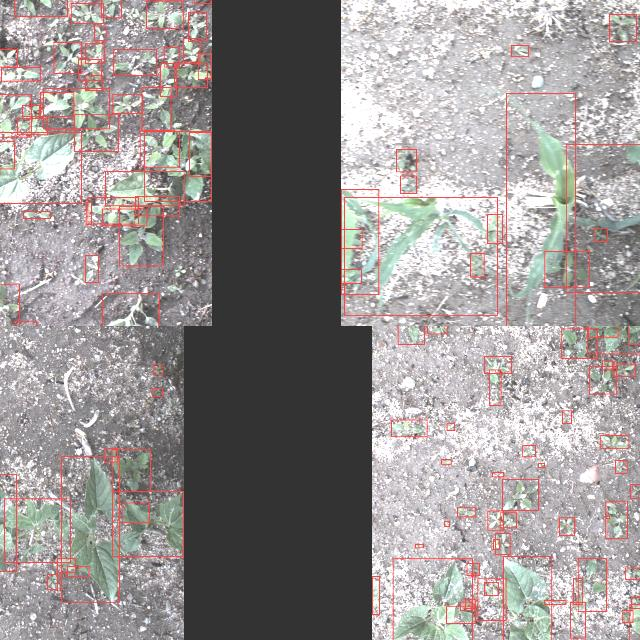crop: (344, 197, 496, 315), (506, 93, 576, 326), (565, 144, 640, 292), (61, 456, 119, 602), (392, 557, 472, 640), (0, 131, 80, 202), (112, 490, 184, 556), (4, 498, 70, 562), (502, 556, 551, 640), (340, 188, 378, 294), (104, 170, 184, 206), (0, 473, 15, 570), (189, 132, 211, 176), (372, 576, 378, 614)
weed: (144, 131, 212, 201), (43, 88, 109, 128), (119, 205, 163, 265), (101, 293, 158, 326), (544, 251, 590, 287), (112, 449, 150, 491), (74, 114, 118, 150), (578, 558, 606, 610), (139, 130, 179, 166), (88, 197, 138, 223), (0, 94, 30, 136), (142, 86, 170, 130), (477, 578, 505, 620), (502, 478, 538, 509), (114, 49, 156, 75), (561, 328, 597, 358), (146, 0, 182, 28), (135, 195, 179, 215), (53, 42, 81, 72), (40, 92, 74, 116), (13, 0, 66, 15), (102, 208, 146, 226), (175, 63, 208, 87), (605, 501, 627, 537), (588, 365, 616, 393), (0, 283, 18, 326), (610, 13, 636, 41), (71, 3, 103, 23), (390, 419, 426, 436), (0, 66, 40, 80), (160, 62, 176, 96), (112, 94, 142, 112), (188, 11, 206, 41), (122, 502, 148, 522), (77, 59, 101, 80), (570, 601, 584, 637), (17, 118, 47, 134), (395, 148, 415, 172), (445, 606, 475, 622), (397, 326, 423, 344), (486, 214, 502, 242), (483, 356, 511, 372), (341, 228, 362, 248), (488, 370, 500, 404), (0, 140, 14, 168), (84, 254, 98, 282), (600, 434, 628, 448), (183, 37, 199, 61), (85, 43, 104, 63), (197, 53, 211, 79), (494, 532, 510, 554), (101, 0, 121, 17), (470, 252, 484, 276), (163, 46, 179, 66), (0, 48, 17, 66), (588, 326, 618, 336), (400, 175, 416, 193), (558, 517, 574, 535), (340, 268, 360, 282), (488, 510, 502, 530), (85, 74, 102, 90), (499, 512, 516, 528), (613, 363, 635, 375), (572, 578, 582, 604), (57, 558, 75, 572), (22, 210, 50, 218), (67, 566, 89, 576), (510, 44, 528, 56), (104, 447, 118, 461), (484, 581, 498, 595), (22, 104, 38, 116), (94, 26, 106, 40), (593, 228, 607, 240), (625, 567, 640, 578), (466, 563, 478, 575), (615, 460, 627, 472), (522, 444, 534, 456), (456, 508, 474, 516), (47, 574, 57, 588), (630, 484, 640, 498), (426, 326, 446, 333), (85, 202, 91, 224), (10, 321, 35, 326), (622, 610, 632, 622), (561, 410, 571, 422), (602, 360, 612, 370), (464, 598, 474, 608), (631, 596, 640, 607), (543, 600, 565, 604), (152, 388, 162, 396), (154, 364, 162, 374), (492, 539, 500, 549), (460, 601, 470, 609), (446, 422, 454, 430), (440, 458, 450, 464), (492, 472, 502, 476), (413, 543, 422, 547), (538, 463, 544, 467), (444, 520, 448, 526), (470, 574, 476, 576), (606, 516, 608, 518)
